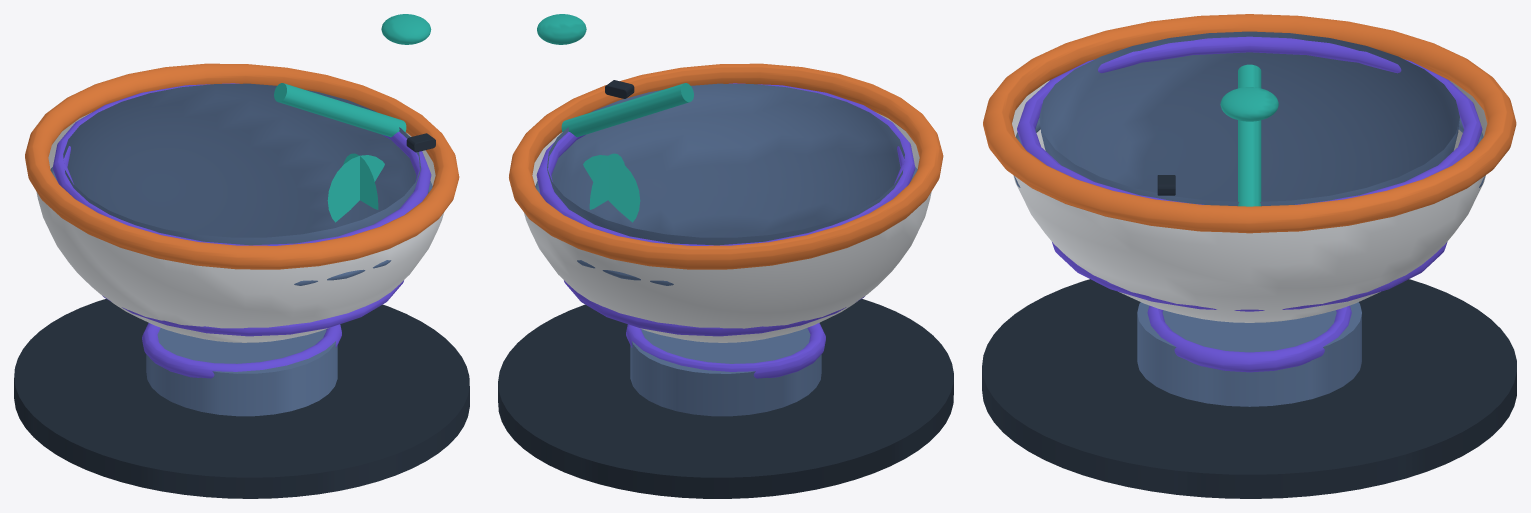
Rendered from 0607_考古图鉴_马王堆汉墓餐具.glb.
3 views of the same model, side by side, from view 1: azimuth 30°, elevation 25°; view 2: azimuth 150°, elevation 25°; view 3: azimuth 270°, elevation 25° (orthographic). The views are drawn at different scales.
Visible parts, largest first — view 1: card_0607; view 2: card_0607; view 3: card_0607.
Part boxes in pixels (box(x1,y1,x2,y2)): card_0607: box(14, 14, 469, 498); card_0607: box(498, 14, 953, 498); card_0607: box(982, 14, 1516, 498).
Size of the model in its own units: 1.19 by 1 by 1.24.
